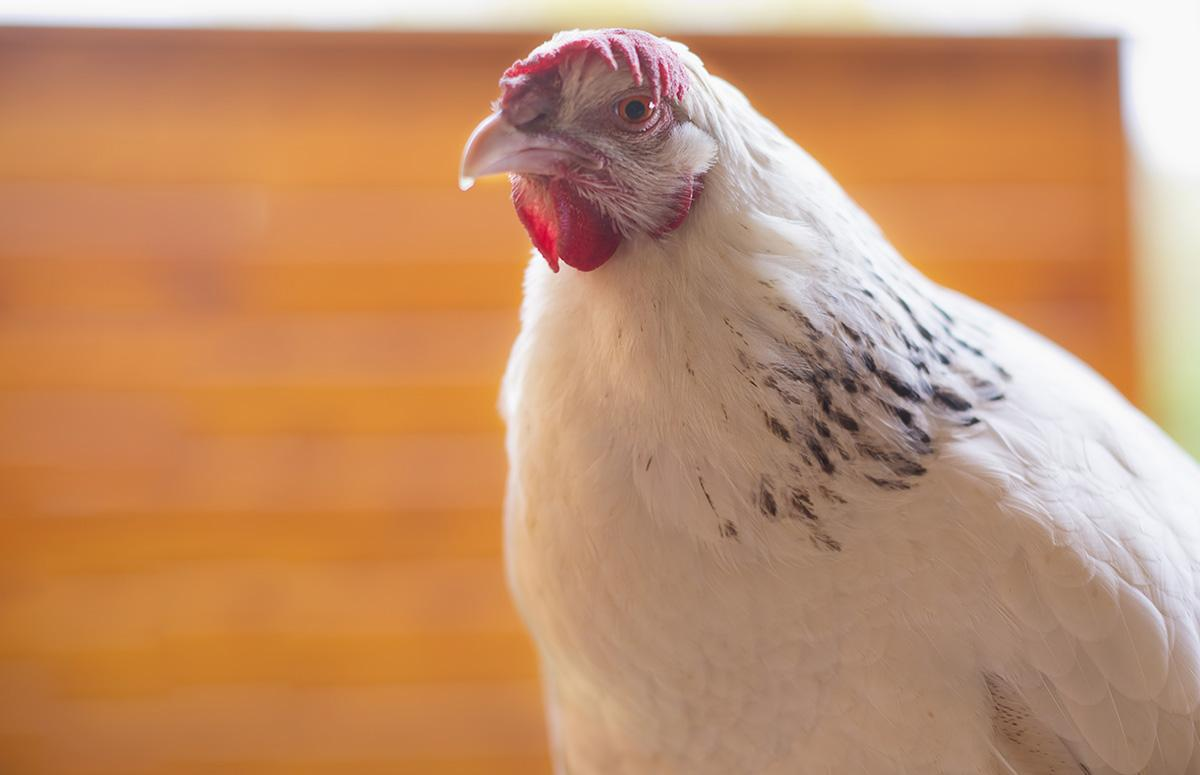AbNormal: (502, 26, 692, 134)
